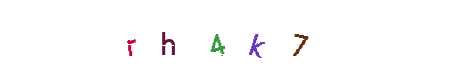4: (187, 0, 267, 80)
7: (215, 0, 295, 80)
H: (177, 0, 257, 80)
K: (189, 0, 269, 80)
R: (165, 0, 245, 80)
